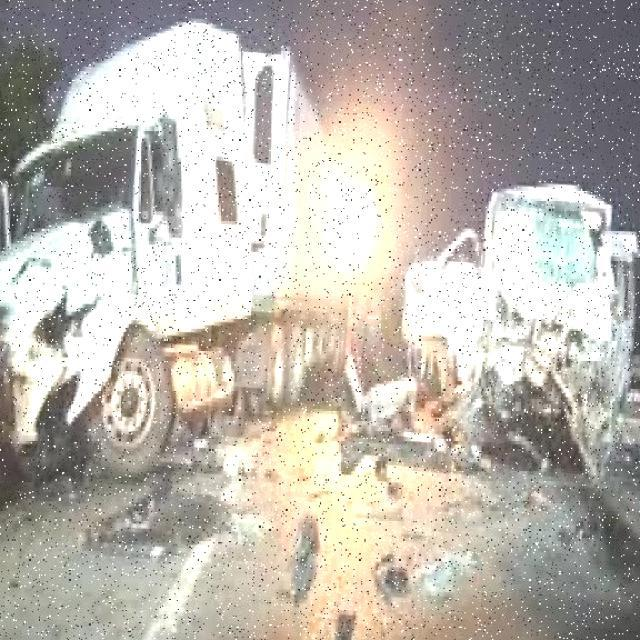accident: (413, 116, 640, 480), (0, 121, 203, 474)
